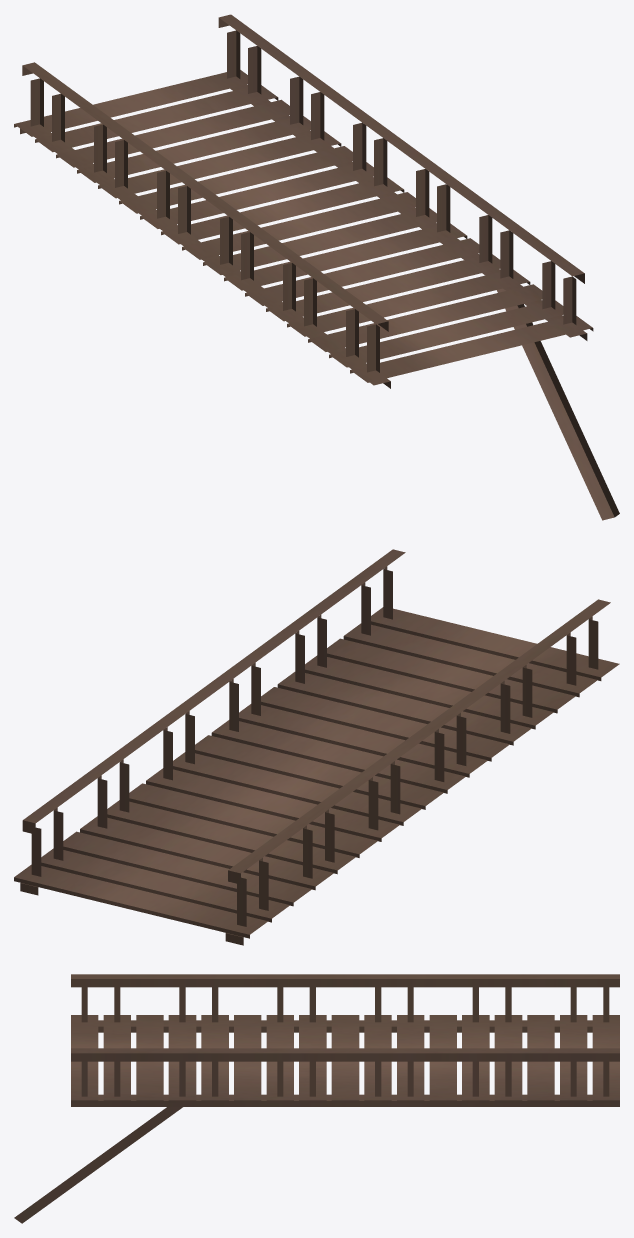
Rendered from bridge.fbx.
3 renders of one model, top to bottom at view 1: azimuth 30°, elevation 25°; view 2: azimuth 150°, elevation 25°; view 3: azimuth 270°, elevation 25°, orthographic. The views are drawn at different scales.
Parts seen in each view (by area): view 1: bridge; view 2: bridge; view 3: bridge.
Boxes of the visible parts, bbox=[...] form: bridge: bbox=[14, 14, 619, 520]; bridge: bbox=[14, 549, 619, 945]; bridge: bbox=[14, 974, 619, 1223].
Size of the model in its own units: 4 by 3.74 by 12.
Materials: 1 (1 with a texture image).
